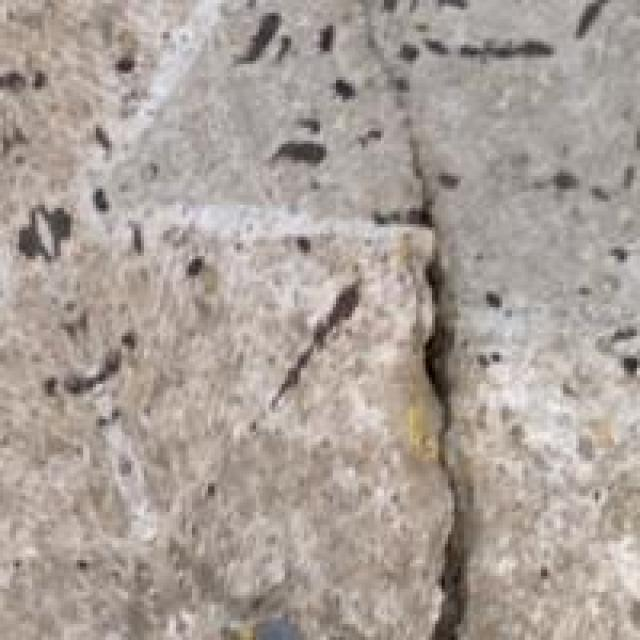SurfaceCrack: (352, 86, 516, 640)
